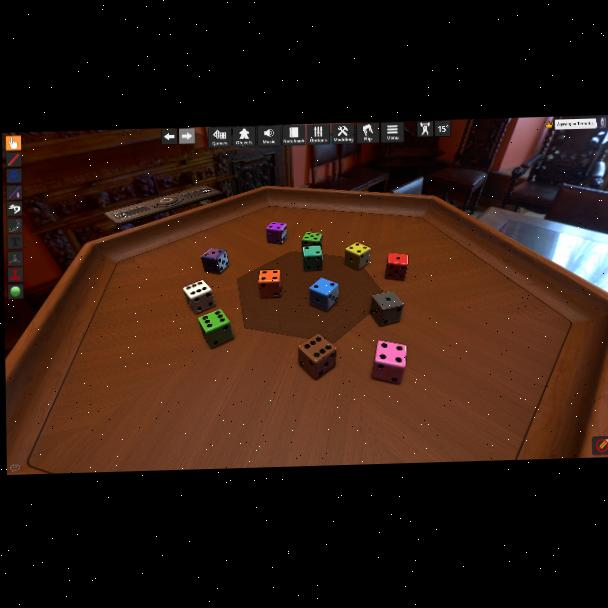d6: (370, 340, 407, 386), (298, 334, 333, 380), (198, 310, 234, 350), (371, 291, 404, 327), (183, 279, 216, 315), (308, 277, 337, 312), (200, 247, 228, 276), (342, 242, 368, 271), (385, 252, 409, 281), (258, 269, 281, 299), (302, 245, 322, 271), (266, 223, 287, 245), (302, 232, 320, 250)
